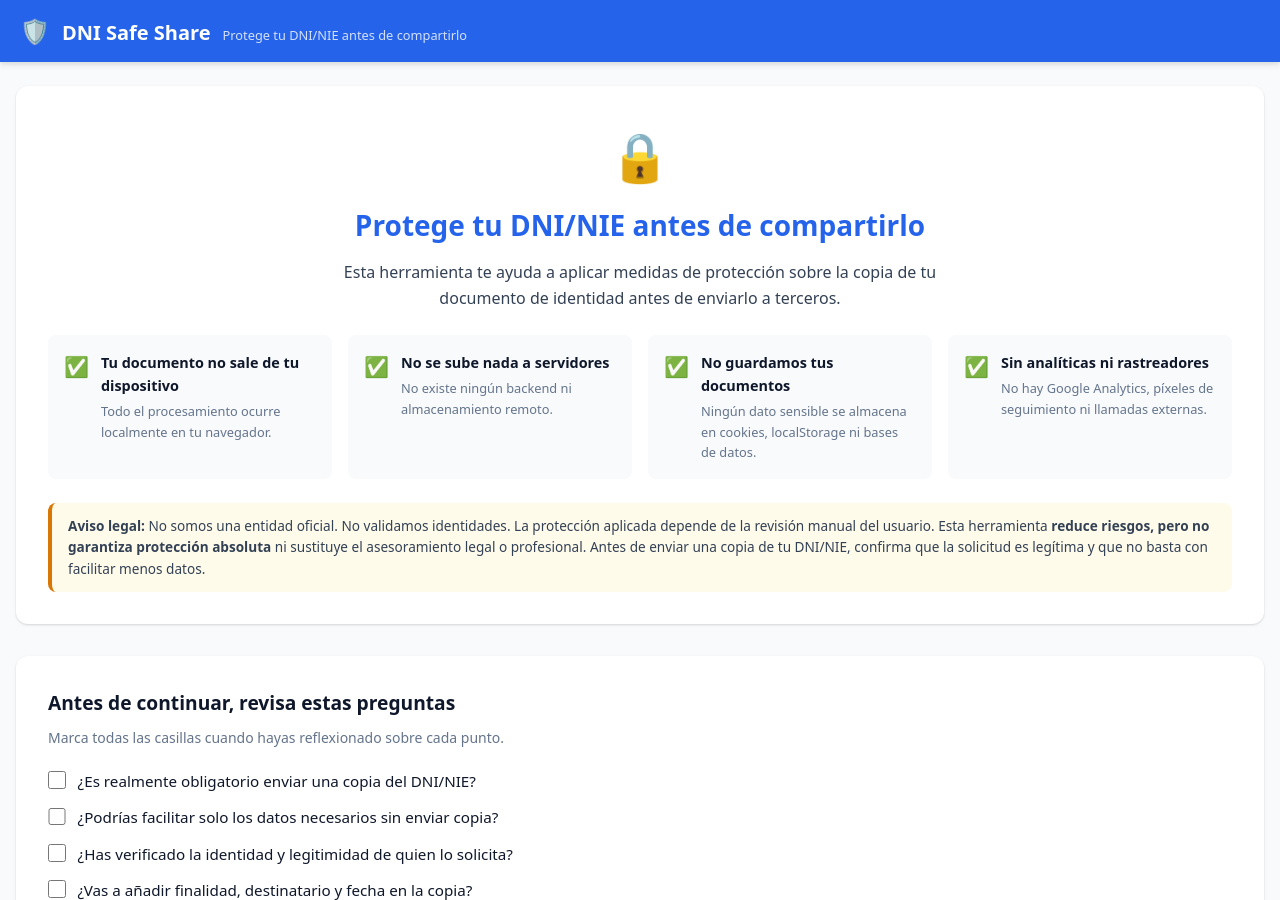
App › avanza al paso de subida tras marcar todos los checks
The width and height of the screenshot is (1280, 900).
Click the checkbox labelled "¿Es realmente obligatorio enviar una copia del DNI/NIE?".
click(57, 780)  # box [48,771,66,789]
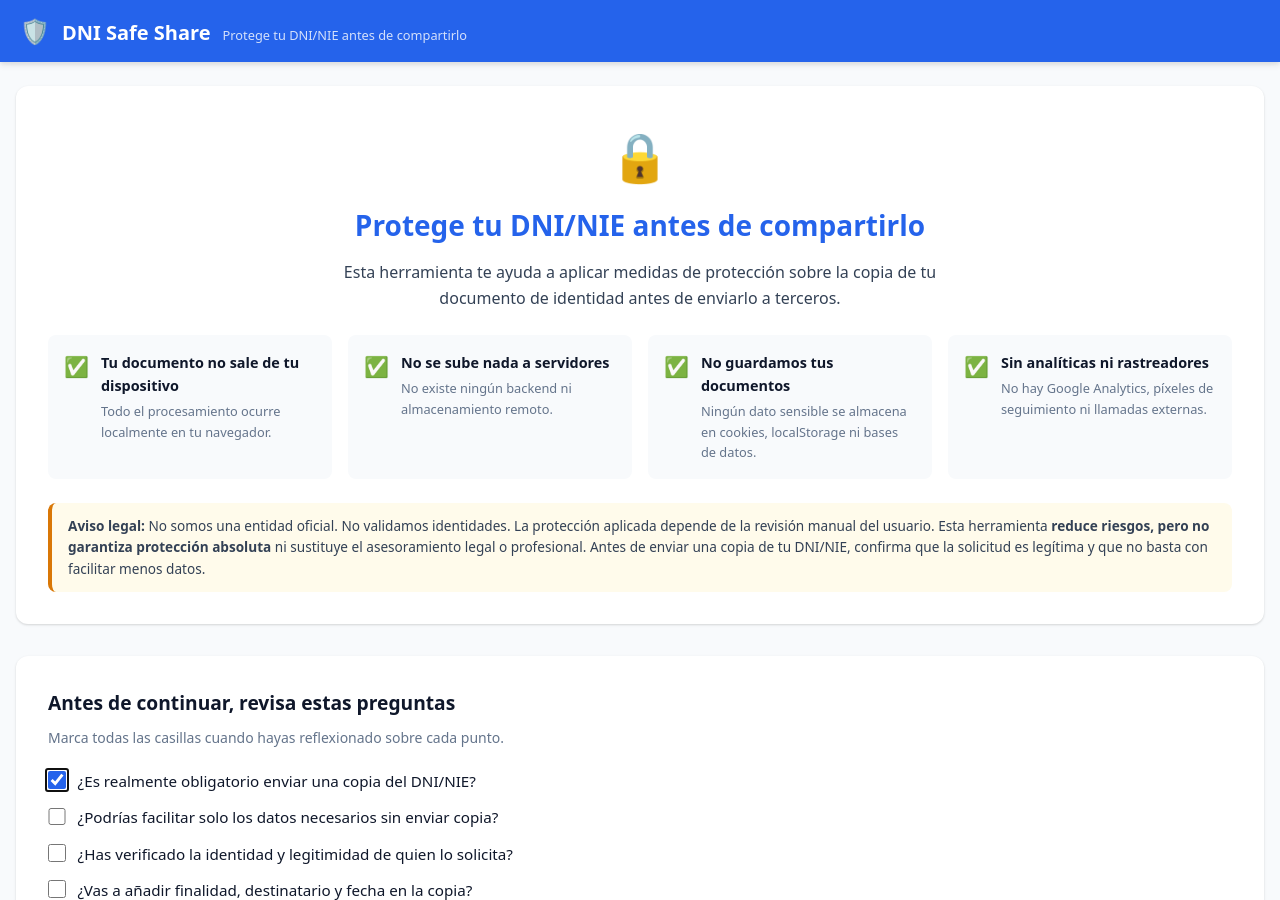
Click the 2nd checkbox.
click(57, 816)  # box [48,808,66,825]
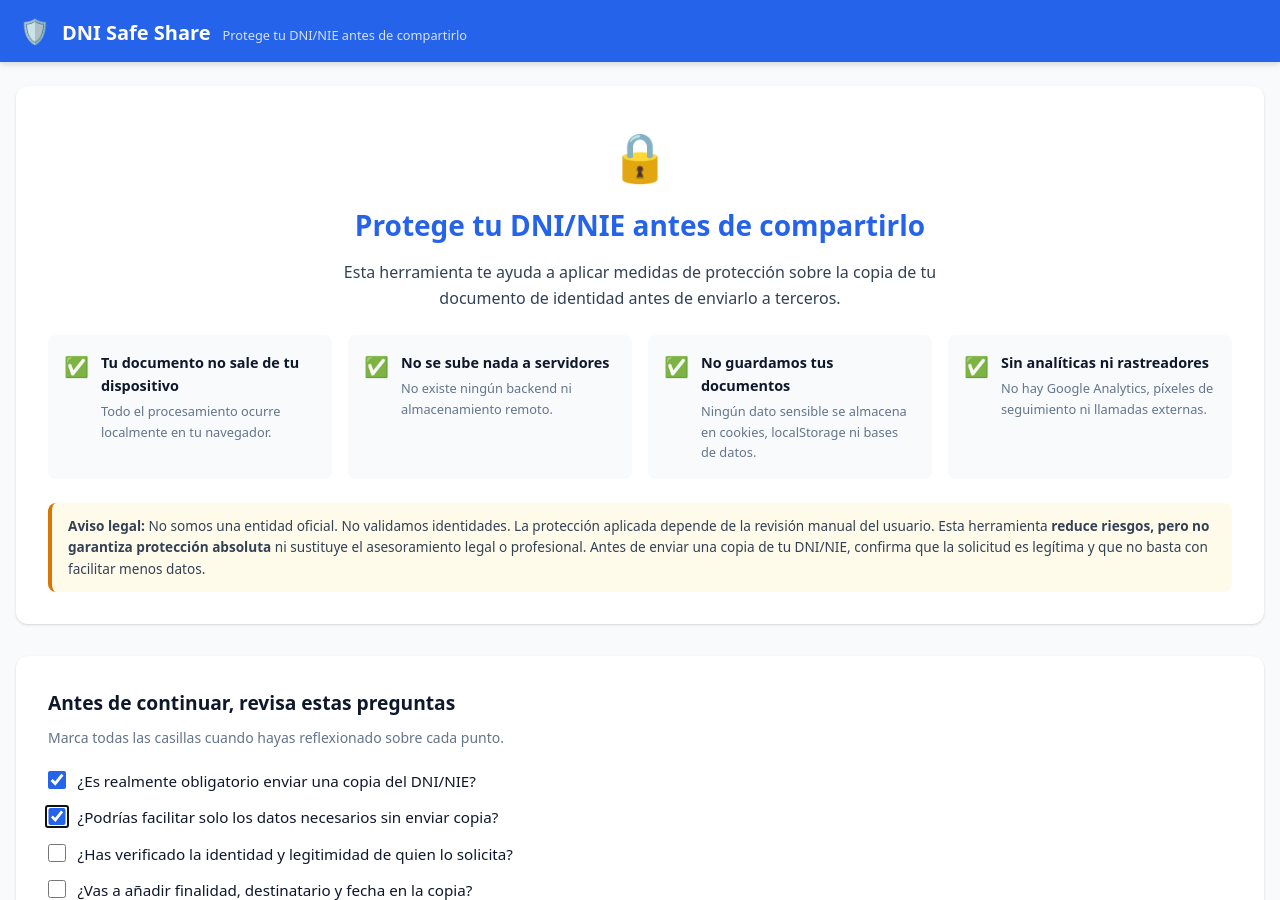
Click the 3rd checkbox.
click(57, 853)  # box [48,844,66,862]
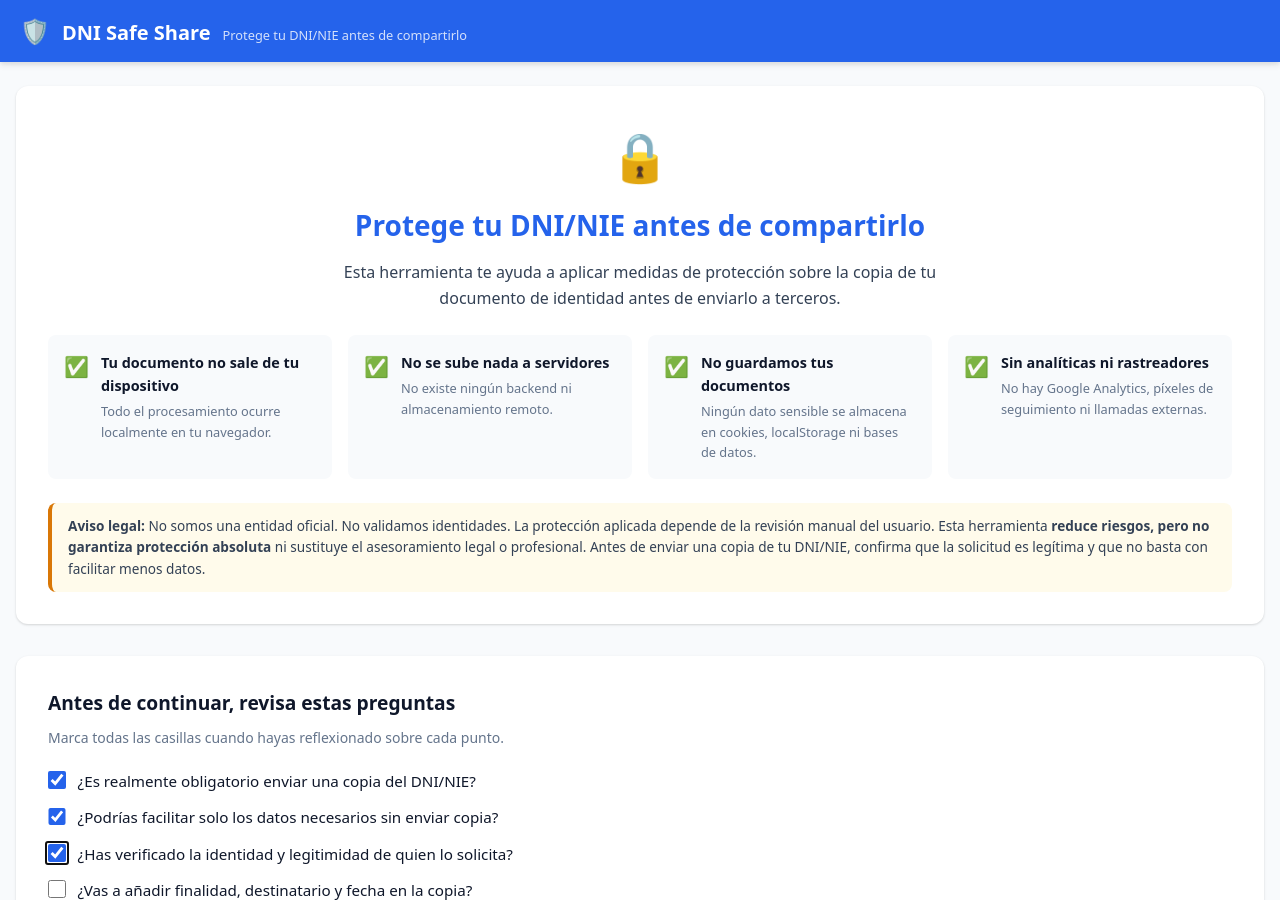
Click the checkbox labelled "¿Vas a añadir finalidad, destinatario y fecha en la copia?".
click(57, 889)  # box [48,880,66,898]
(page scrolled)
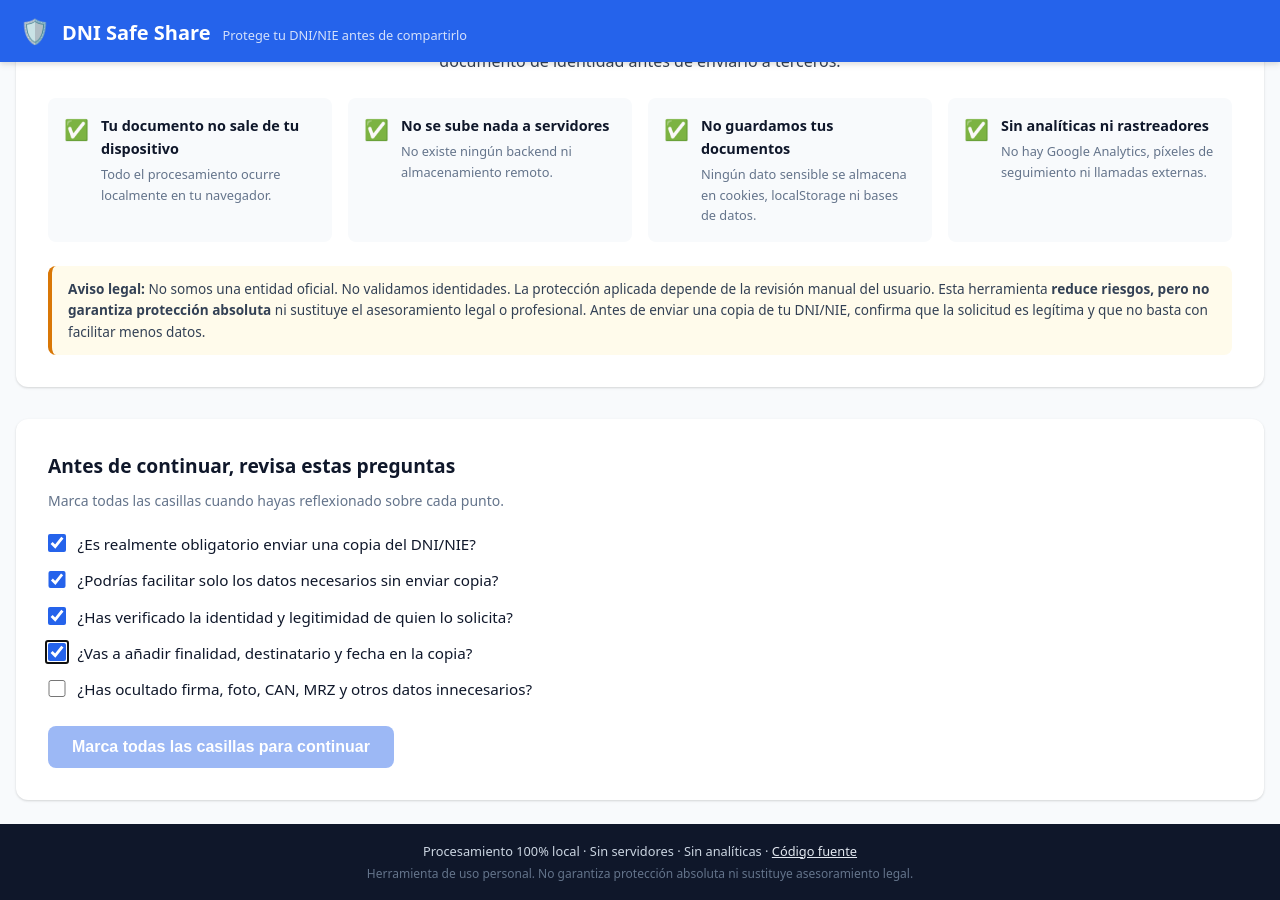
Click the 5th checkbox.
click(57, 688)  # box [48,680,66,697]
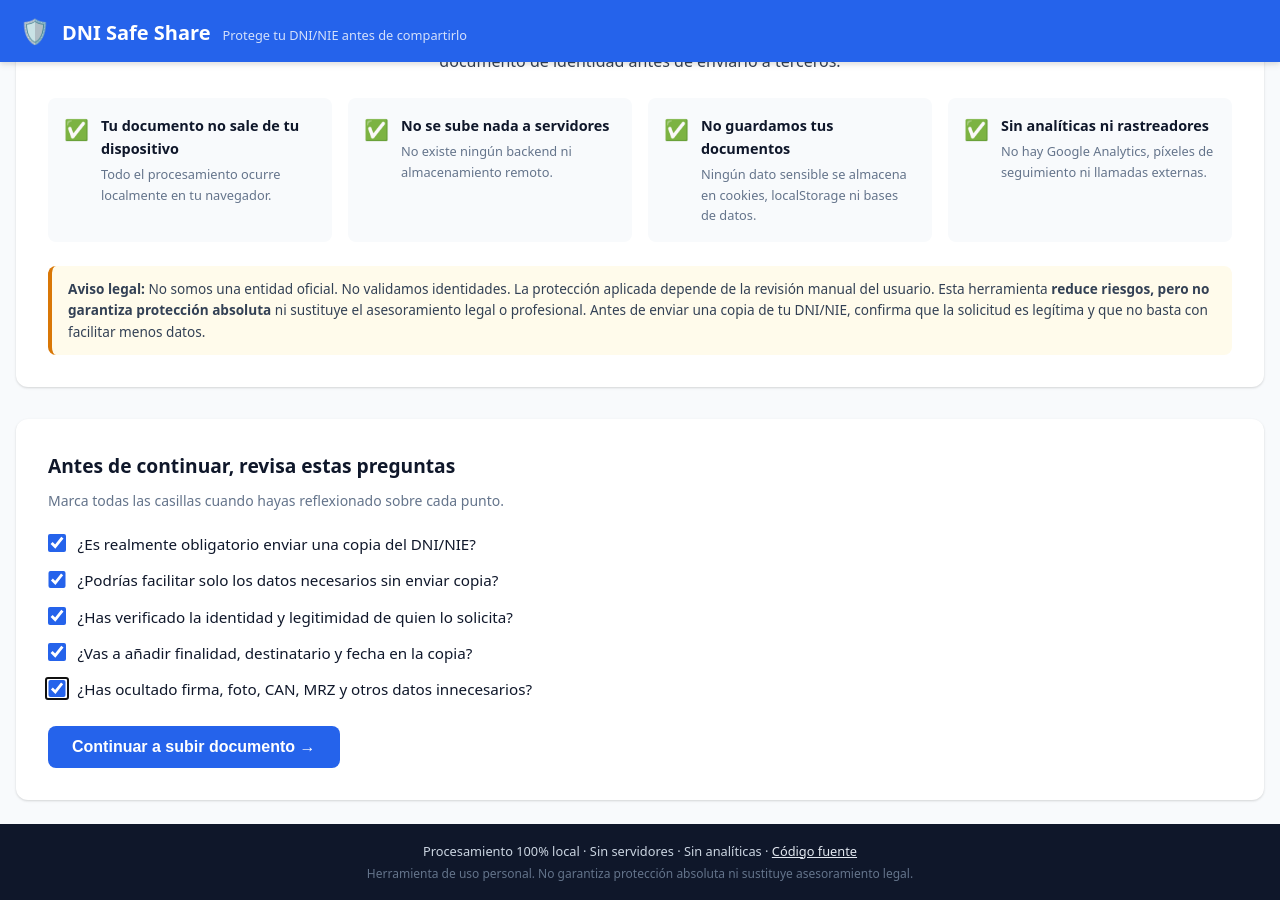
Now the button "Continuar a subir documento →" is enabled
Click the button "Continuar a subir documento →".
click(194, 747)  # box [48,726,340,768]
(page scrolled)
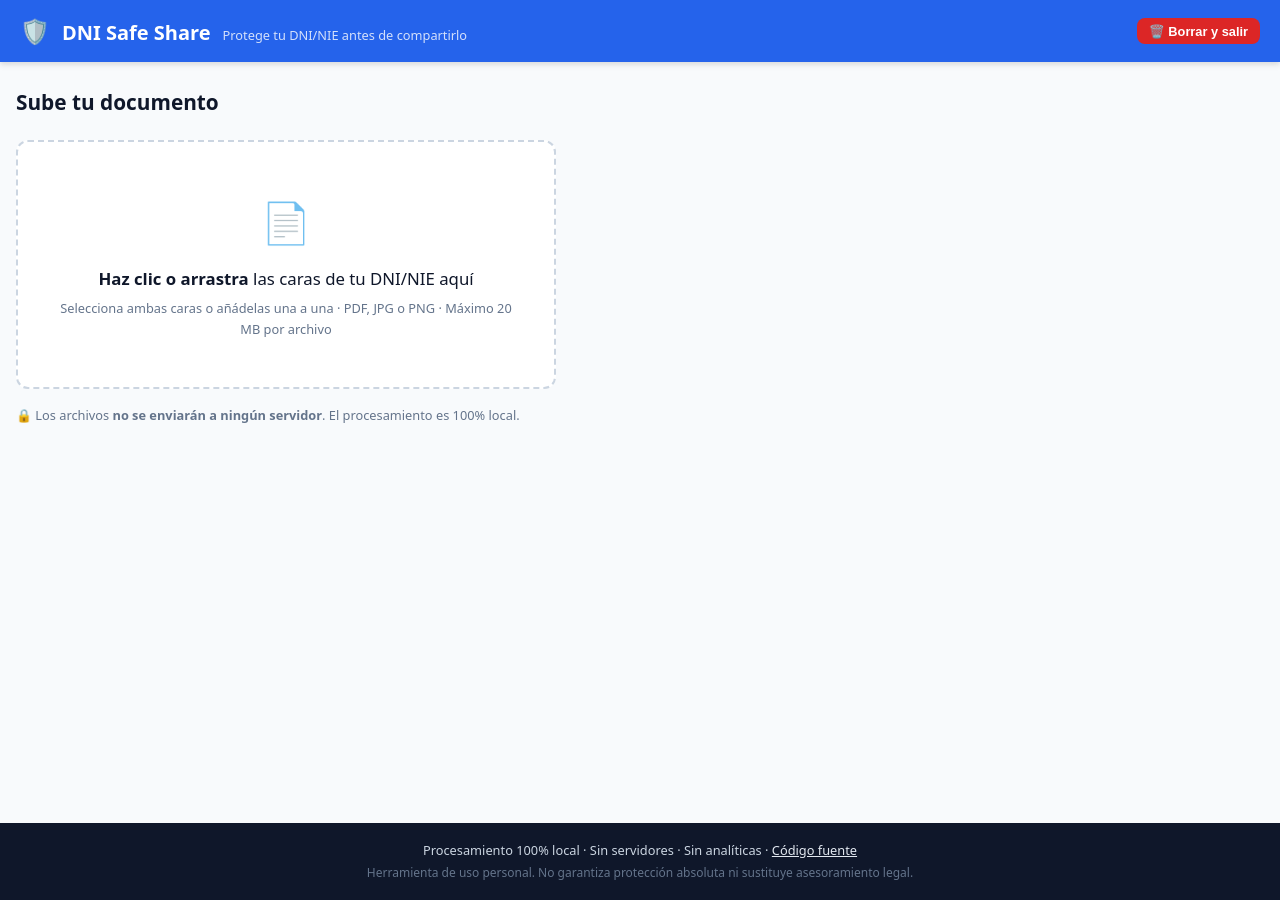
Now the heading "Sube tu documento" is shown, box [16,88,219,116]
